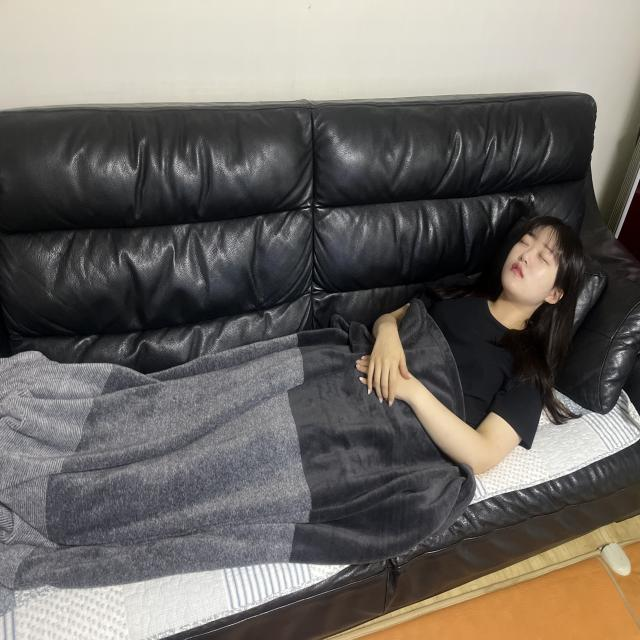people: (2, 215, 590, 578)
